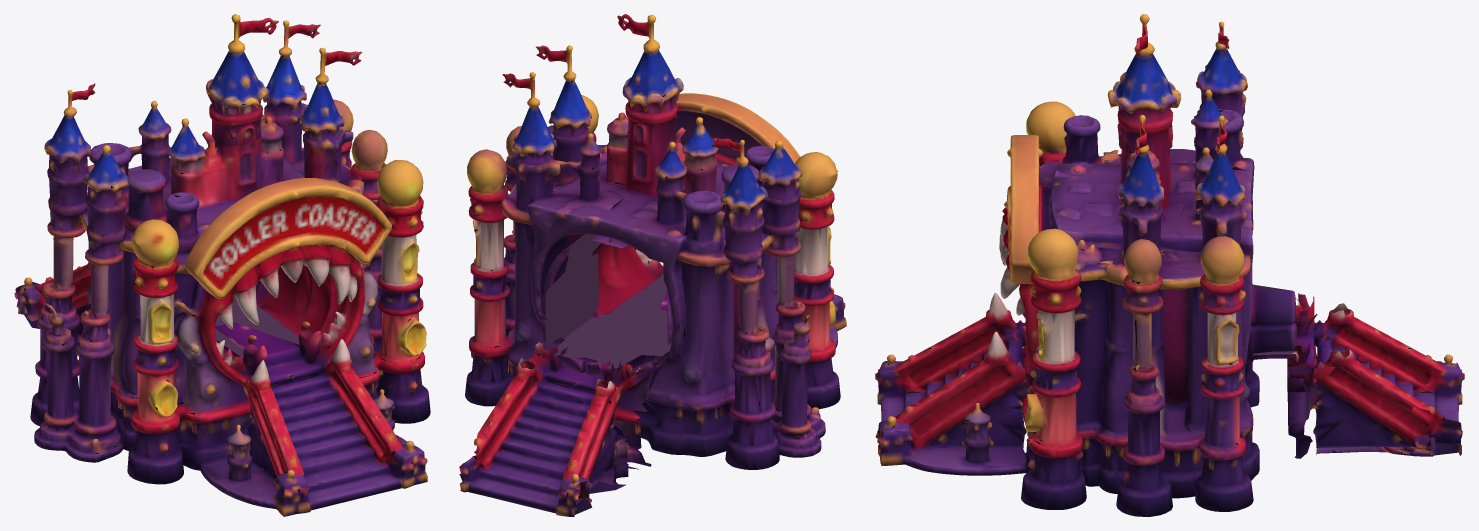
File: CUR_CoasterEntrance.fbx
3 renders of one model, left to right at view 1: azimuth 30°, elevation 25°; view 2: azimuth 150°, elevation 25°; view 3: azimuth 270°, elevation 25°, orthographic. The views are drawn at different scales.
Visible parts, largest first — view 1: CoasterEntrance; view 2: CoasterEntrance; view 3: CoasterEntrance.
Part boxes in pixels (x1,y1,x2,y2): CoasterEntrance: (14, 14, 430, 516); CoasterEntrance: (459, 14, 846, 516); CoasterEntrance: (875, 14, 1464, 516).
Bounding box in the file's own units: 15.16 × 16.67 × 21.08.
2 materials, 1 textured.
